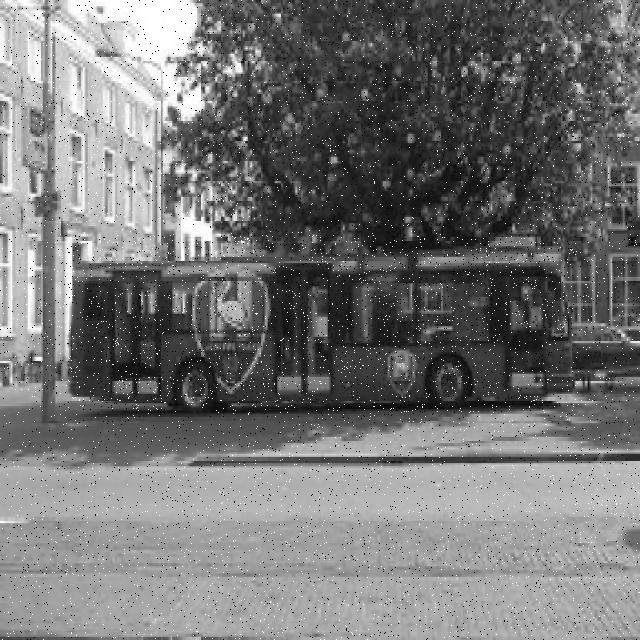Bus: (66, 236, 574, 413)
